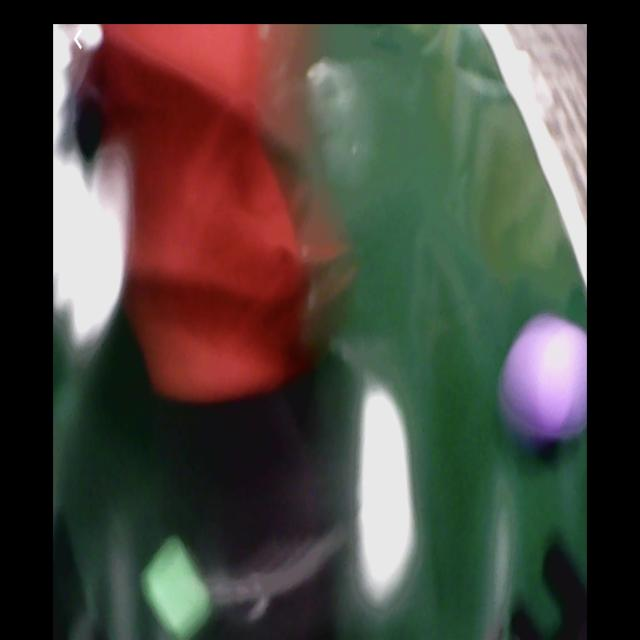ball: (508, 322, 585, 437)
